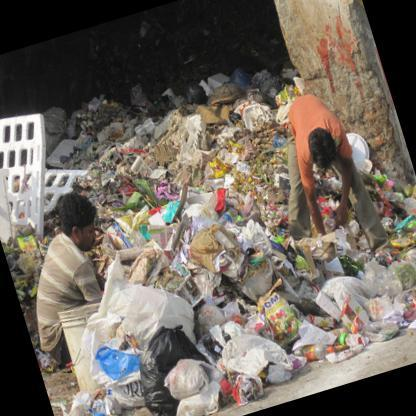Garbage: (84, 57, 327, 415), (205, 294, 304, 406), (319, 266, 408, 364), (238, 253, 310, 344), (205, 84, 271, 147), (46, 369, 126, 415), (116, 124, 174, 170), (164, 98, 210, 155), (201, 190, 251, 237), (89, 337, 142, 381), (385, 203, 415, 266), (215, 155, 258, 195), (92, 90, 128, 122)
